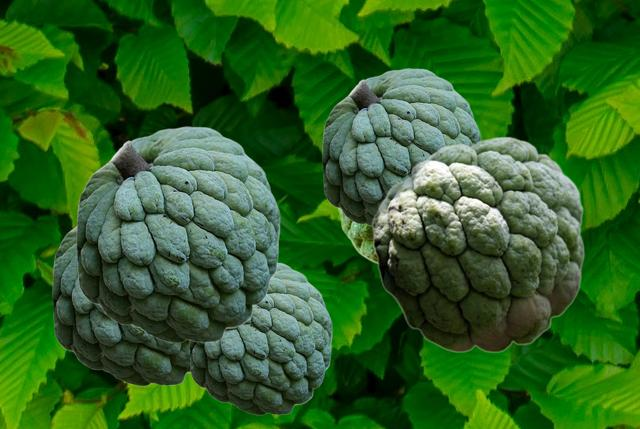atis: (371, 136, 584, 352), (76, 126, 279, 342), (322, 68, 480, 226), (52, 226, 189, 385), (189, 262, 331, 414), (336, 209, 376, 264)
